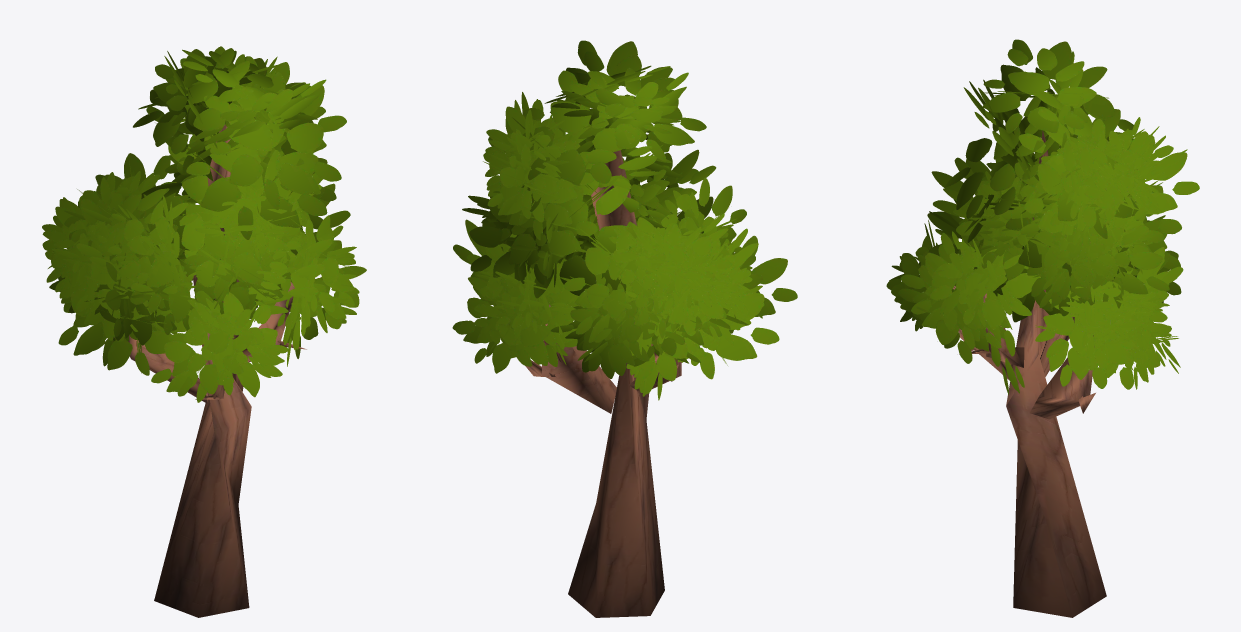
The model's file is commontree-2-lo.glb.
3 views of the same model, side by side, from view 1: azimuth 30°, elevation 25°; view 2: azimuth 150°, elevation 25°; view 3: azimuth 270°, elevation 25° (orthographic). The views are drawn at different scales.
Visible parts, largest first — view 1: CommonTree_2; view 2: CommonTree_2; view 3: CommonTree_2.
Part boxes in pixels (bbox=[...]): CommonTree_2: bbox=[42, 46, 366, 617]; CommonTree_2: bbox=[452, 40, 797, 617]; CommonTree_2: bbox=[886, 39, 1199, 617].
Bounding box in the file's own units: 5.26 × 7.74 × 4.74.
Materials: 2 (2 with a texture image).
